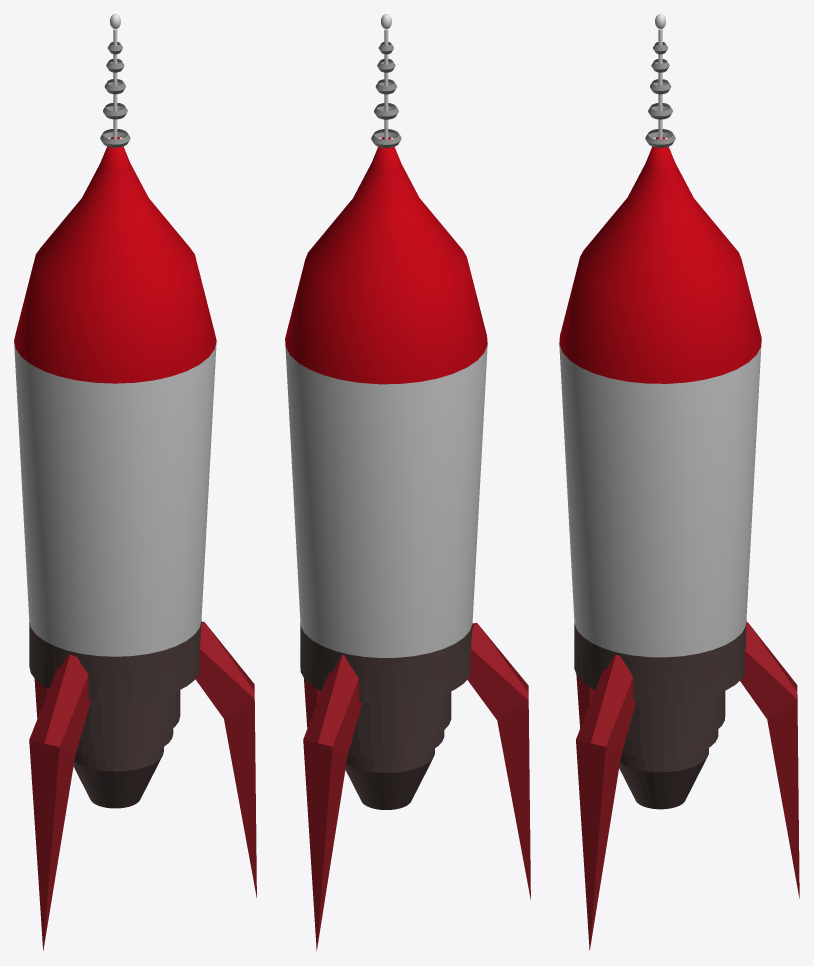
Rendered from rocketship.fbx.
The picture shows the model from 3 angles, left to right: view 1: azimuth 30°, elevation 25°; view 2: azimuth 150°, elevation 25°; view 3: azimuth 270°, elevation 25°; orthographic projection.
Visible parts, largest first — view 1: Circle, Cube, Torus.001; view 2: Circle, Cube, Torus.001; view 3: Circle, Cube, Torus.001.
Part boxes in pixels (left/top/right/bottom): Circle: left=14, top=136, right=216, bottom=808; Cube: left=29, top=621, right=256, bottom=950; Torus.001: left=100, top=42, right=130, bottom=147; Circle: left=285, top=137, right=487, bottom=809; Cube: left=303, top=623, right=530, bottom=950; Torus.001: left=371, top=42, right=401, bottom=147; Circle: left=559, top=137, right=761, bottom=809; Cube: left=576, top=622, right=799, bottom=950; Torus.001: left=645, top=42, right=675, bottom=147.
Bounding box in the file's own units: 110 × 411 × 101.
